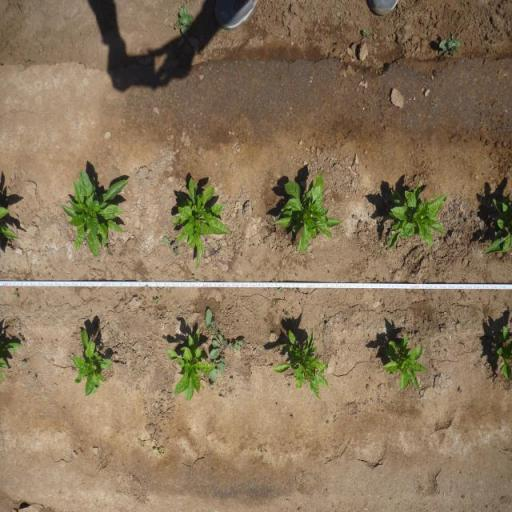plant: (59, 166, 130, 260), (273, 169, 342, 254), (178, 176, 230, 270), (386, 178, 450, 253), (270, 325, 330, 402), (380, 328, 430, 394), (167, 327, 209, 400), (72, 328, 114, 398), (481, 190, 512, 256), (493, 321, 512, 383), (0, 331, 19, 383)
weed: (205, 304, 248, 386), (172, 2, 196, 38), (436, 32, 462, 58), (162, 236, 178, 258), (129, 358, 141, 376), (10, 286, 20, 301), (430, 98, 438, 112), (362, 28, 373, 38), (21, 356, 31, 364), (152, 296, 160, 304), (20, 340, 24, 346)
